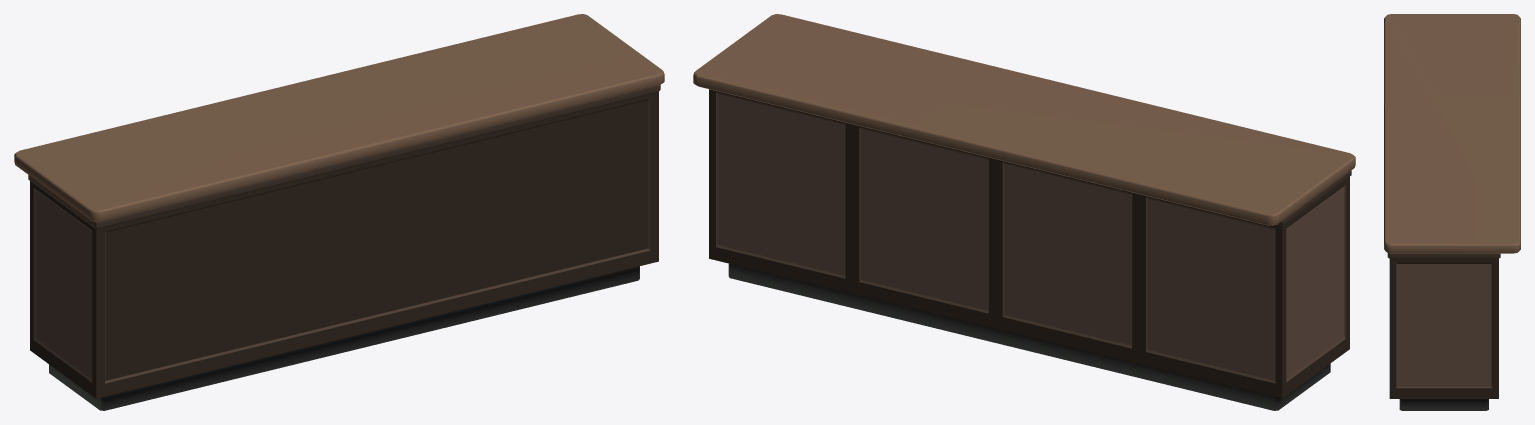
Rendered from Diner_Counter.fbx.
The picture shows the model from 3 angles, left to right: view 1: azimuth 30°, elevation 25°; view 2: azimuth 150°, elevation 25°; view 3: azimuth 270°, elevation 25°; orthographic projection. The views are drawn at different scales.
Parts seen in each view (by area): view 1: Diner_Counter; view 2: Diner_Counter; view 3: Diner_Counter.
Part boxes in pixels (left/top/right/bottom): Diner_Counter: left=14, top=14, right=664, bottom=410; Diner_Counter: left=693, top=14, right=1355, bottom=410; Diner_Counter: left=1384, top=14, right=1520, bottom=410.
Size of the model in its own units: 3 by 1.05 by 0.75.
